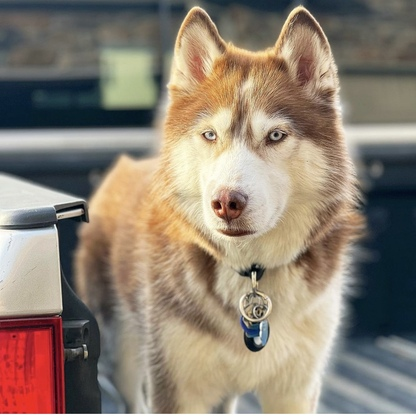husky: (69, 3, 366, 413)
